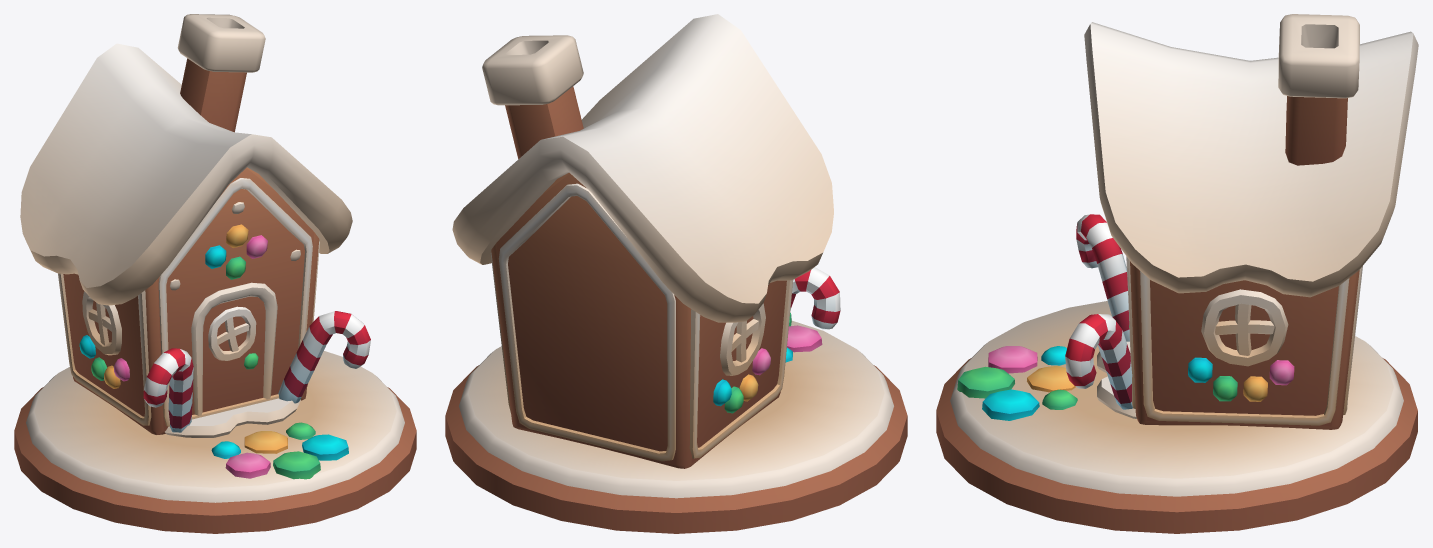
Rendered from gingerbread_house_decorated.obj.
The picture shows the model from 3 angles, left to right: view 1: azimuth 30°, elevation 25°; view 2: azimuth 150°, elevation 25°; view 3: azimuth 270°, elevation 25°; orthographic projection. The views are drawn at different scales.
Visible parts, largest first — view 1: gingerbread_house_decorated; view 2: gingerbread_house_decorated; view 3: gingerbread_house_decorated.
Part boxes in pixels (x1,y1,x2,y2): gingerbread_house_decorated: (14,14,416,533); gingerbread_house_decorated: (445,14,907,533); gingerbread_house_decorated: (936,14,1418,533).
Size of the model in its own units: 1.56 by 1.65 by 1.56.
Materials: 1 (1 with a texture image).
